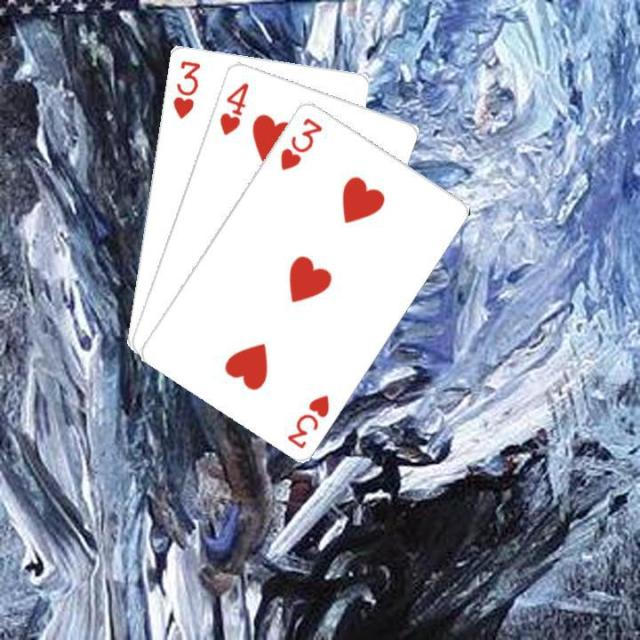3H: (282, 389, 332, 450), (276, 113, 324, 171), (169, 56, 203, 120)
4H: (215, 77, 251, 137)
